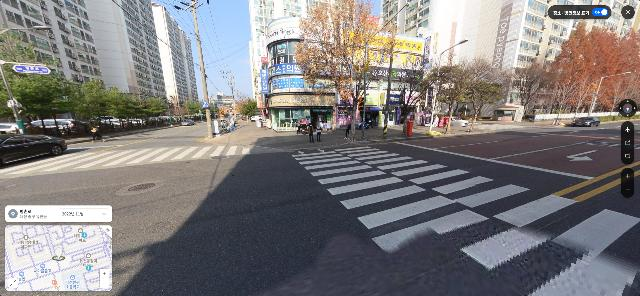other: (296, 0, 416, 142), (541, 17, 639, 123), (1, 35, 86, 137), (376, 44, 442, 136), (416, 44, 484, 133), (455, 51, 516, 132), (509, 56, 560, 122), (77, 82, 139, 135), (540, 75, 580, 126), (136, 96, 166, 130), (236, 95, 259, 122)
